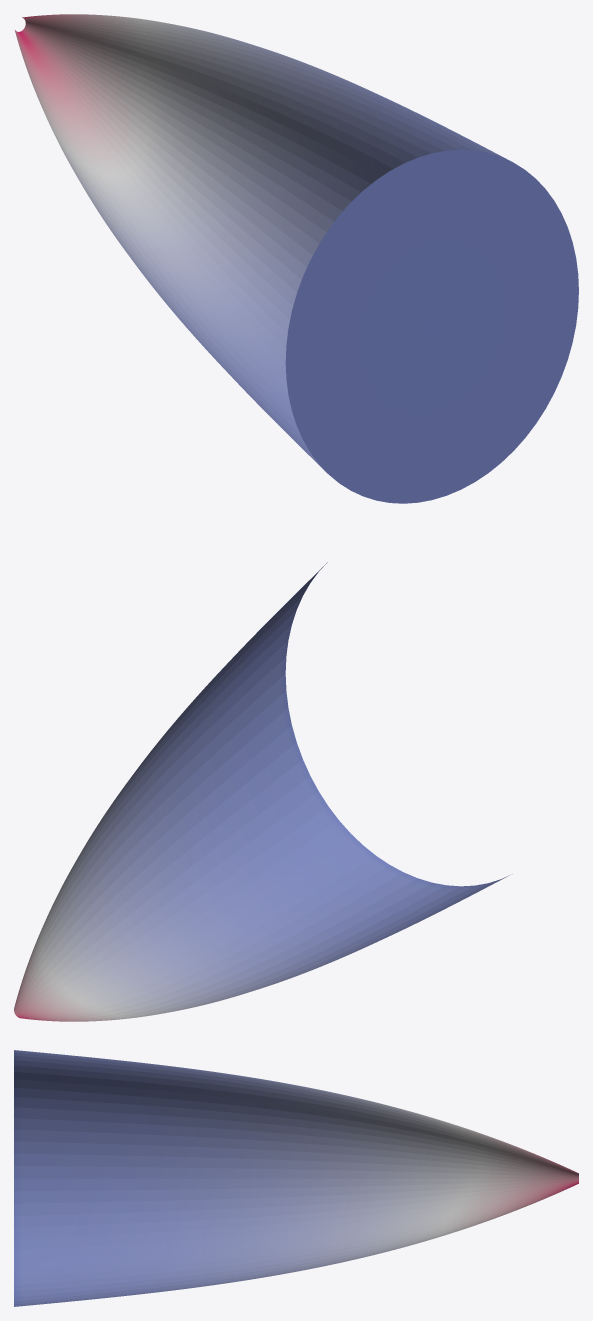
File: frame_007.glb
3 views of the same model, one above another, from view 1: azimuth 30°, elevation 25°; view 2: azimuth 150°, elevation 25°; view 3: azimuth 270°, elevation 25° (orthographic). The views are drawn at different scales.
Parts seen in each view (by area): view 1: world; view 2: world; view 3: world.
Boxes of the visible parts, x1,y1,x2,y2 form: world: [15, 14, 578, 503]; world: [14, 562, 509, 1021]; world: [14, 1050, 578, 1306].
Size of the model in its own units: 0.4105 by 0.4638 by 1.
